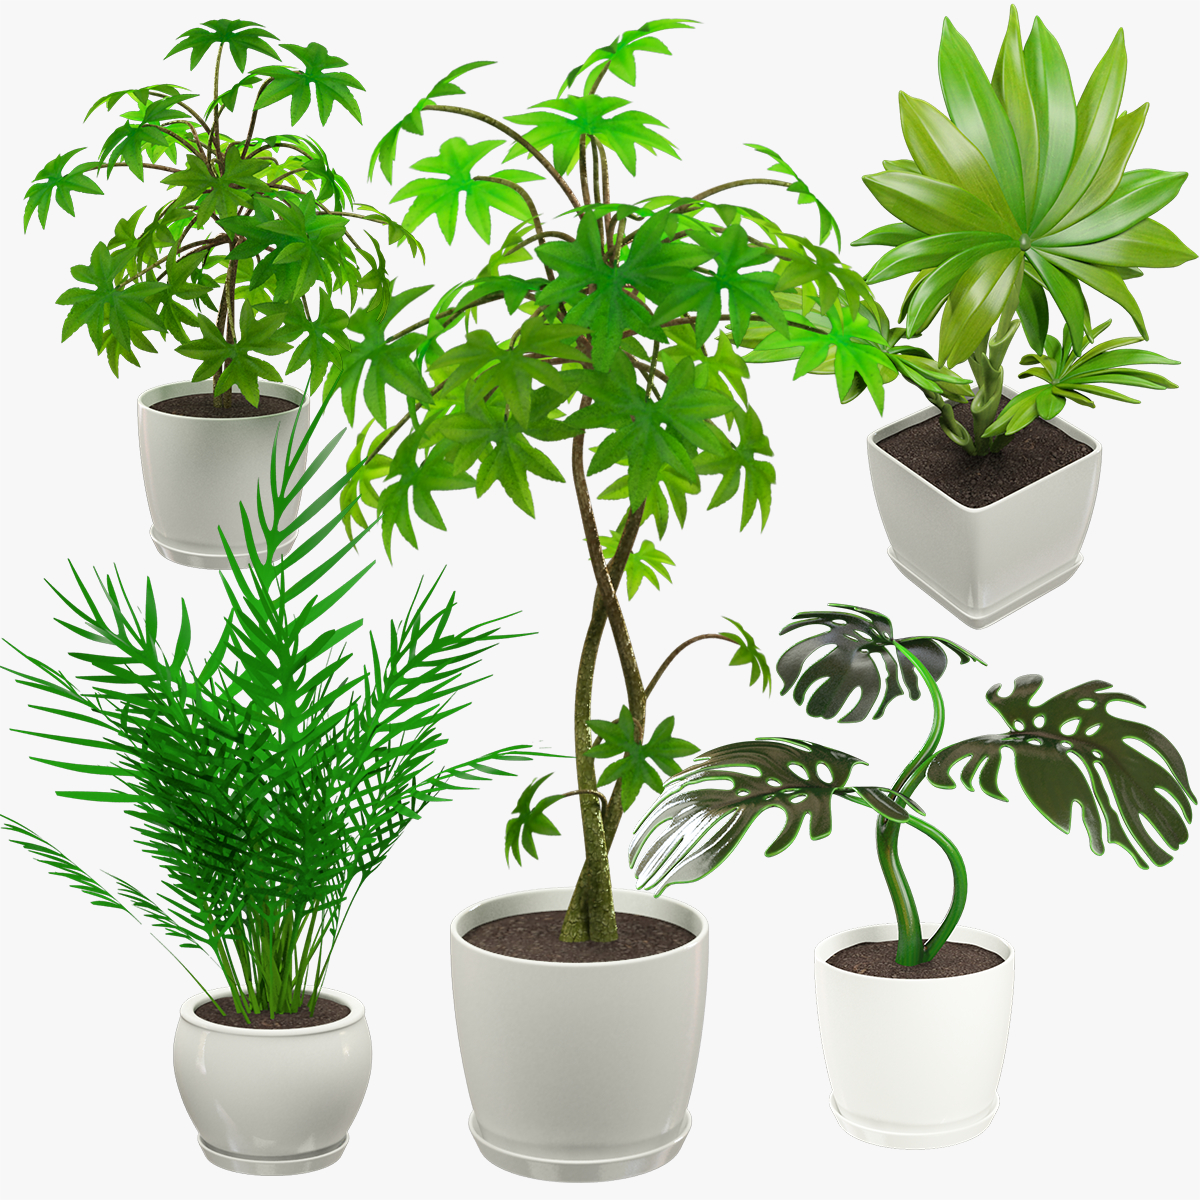plant: (338, 10, 936, 995), (4, 410, 536, 1076), (627, 590, 1200, 1020), (22, 13, 436, 440)
